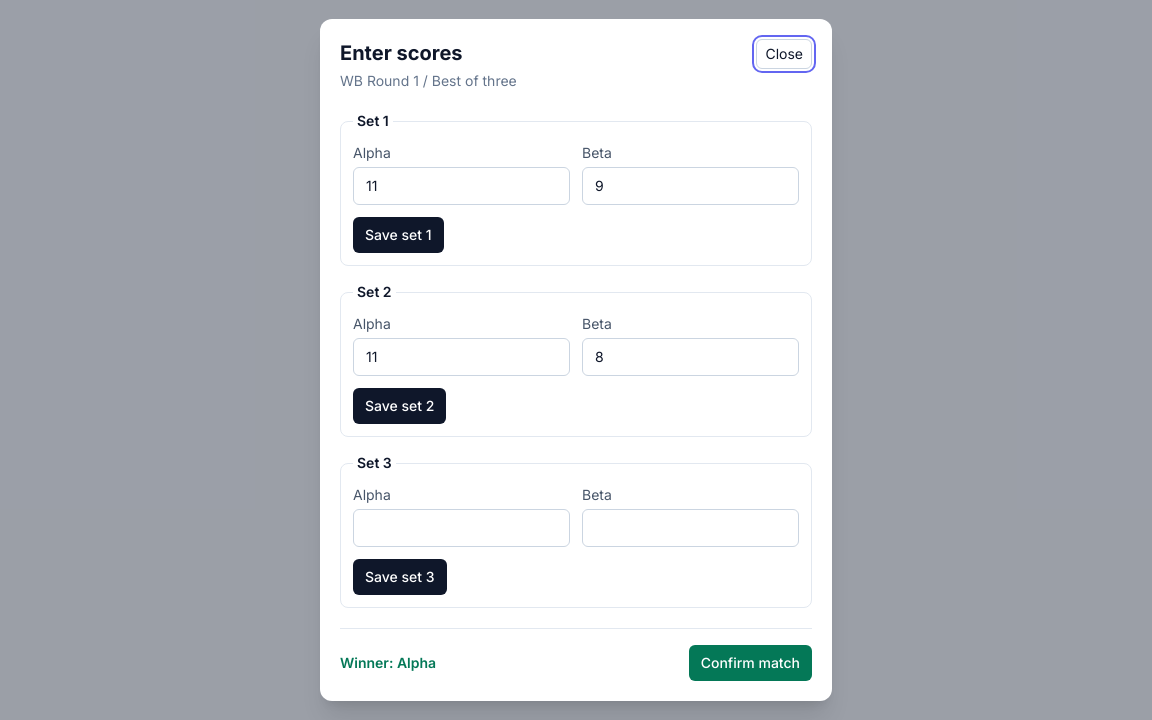
Test: ScoreEntry › clears later BO3 drafts when an earlier set is re-entered
The width and height of the screenshot is (1152, 720).
expect the number field named "Set 2 – Alpha" holds "11": met, box 353,338 -> 570,376
Replace the text in the 1st number field labelled "Alpha" with "9". click: [462, 186]
box: 353,167 -> 570,205
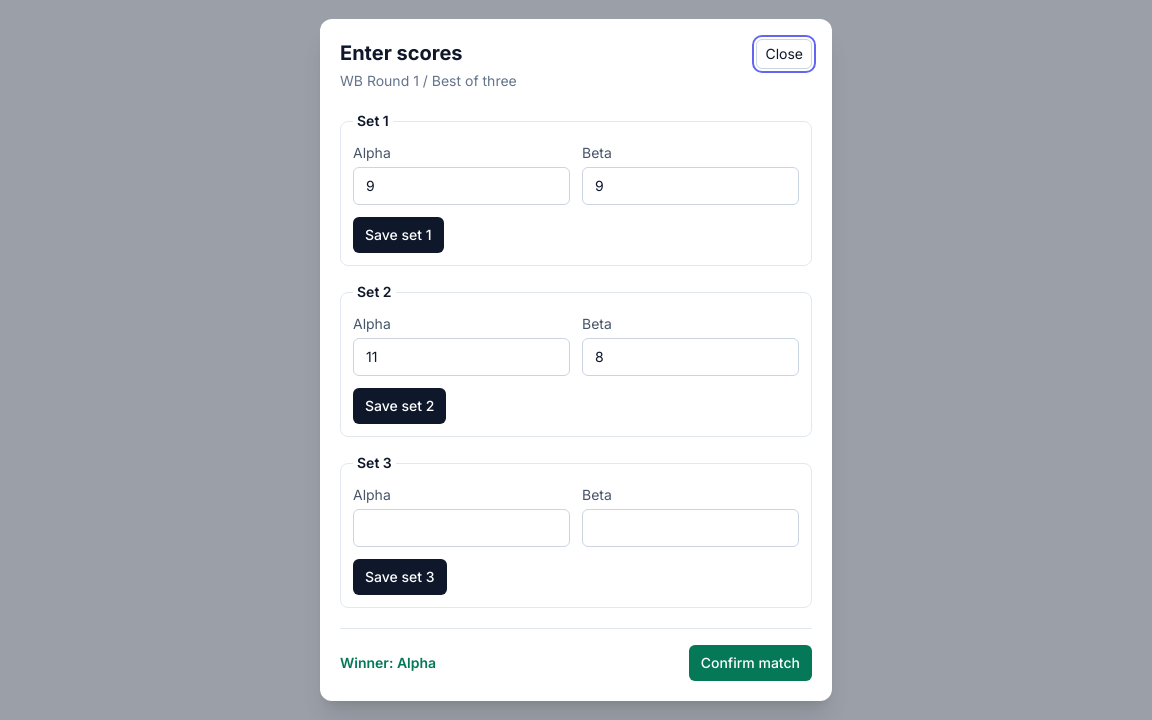
Replace the text in the 1st number field labelled "Beta" with "11". click: [690, 186]
box: 582,167 -> 799,205
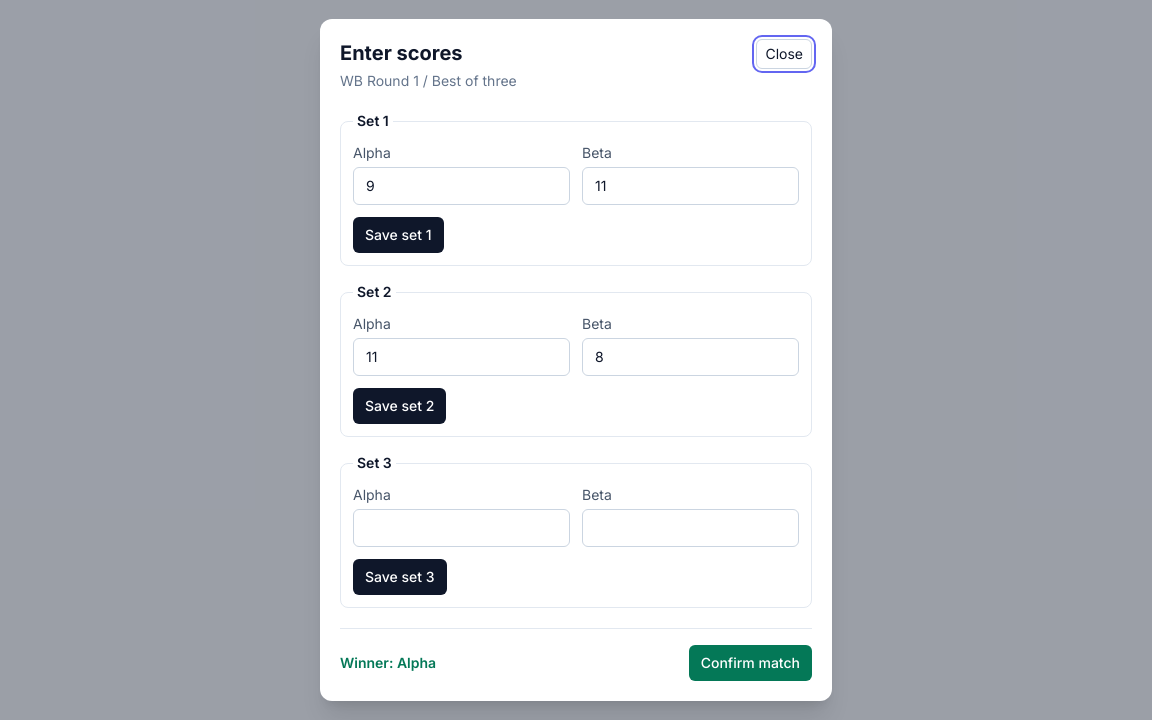
Click the button "Save set 1". click: [398, 235]
box: 353,217 -> 444,253
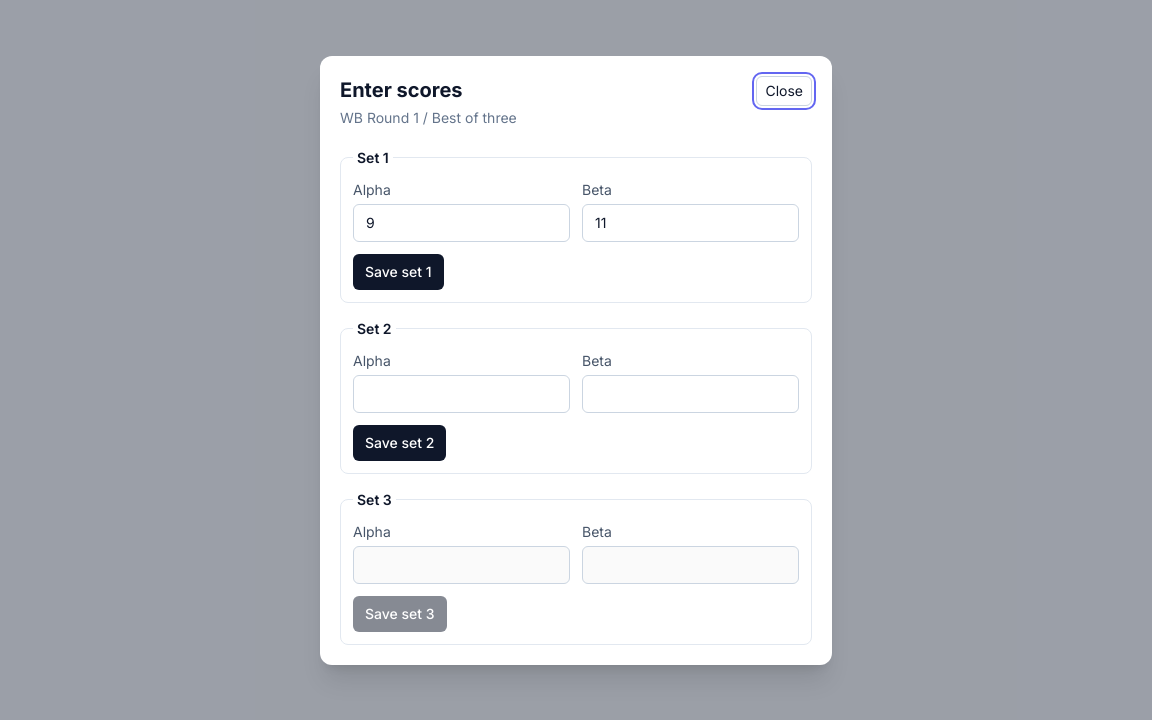
expect the number field named "Set 2 – Alpha" is not empty: met, box 353,374 -> 570,412
